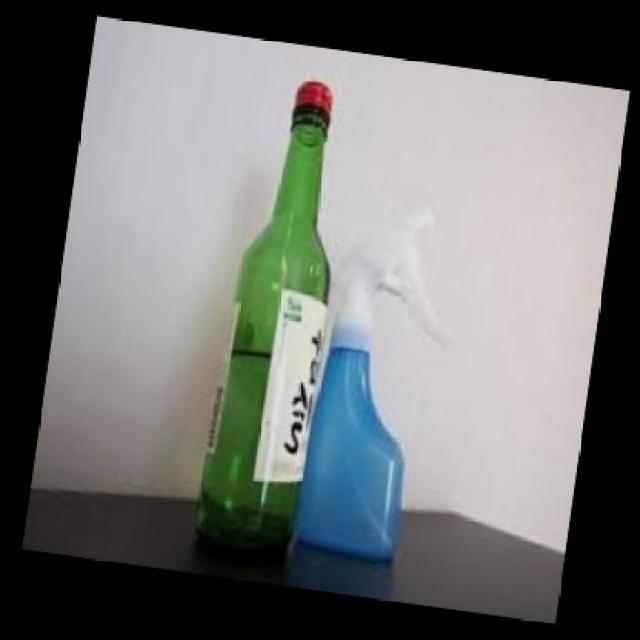Glass: (191, 80, 335, 560)
